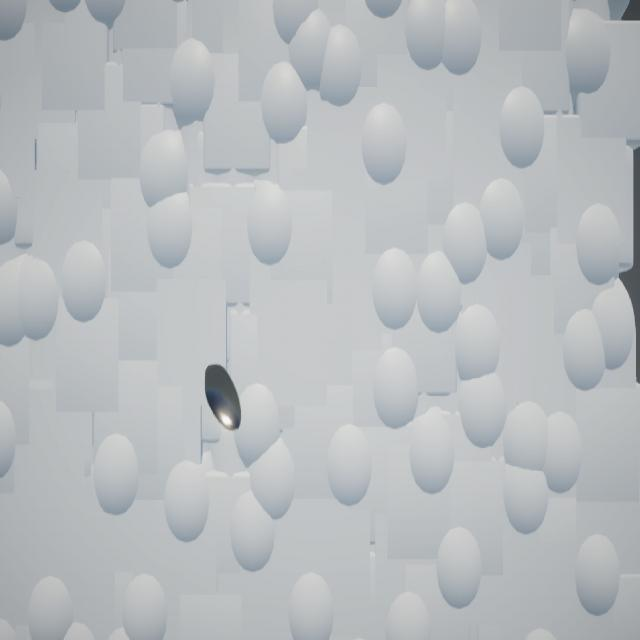top_spoon: (206, 365, 243, 432)
